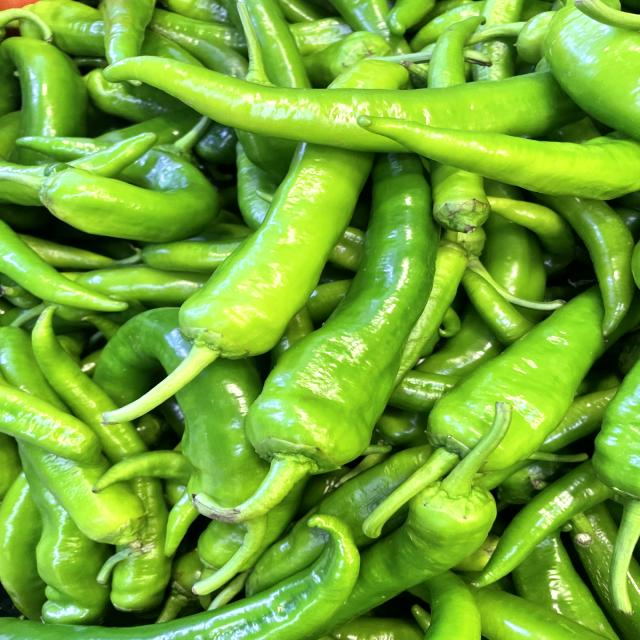green pepper: (193, 146, 443, 526), (93, 45, 611, 158)
